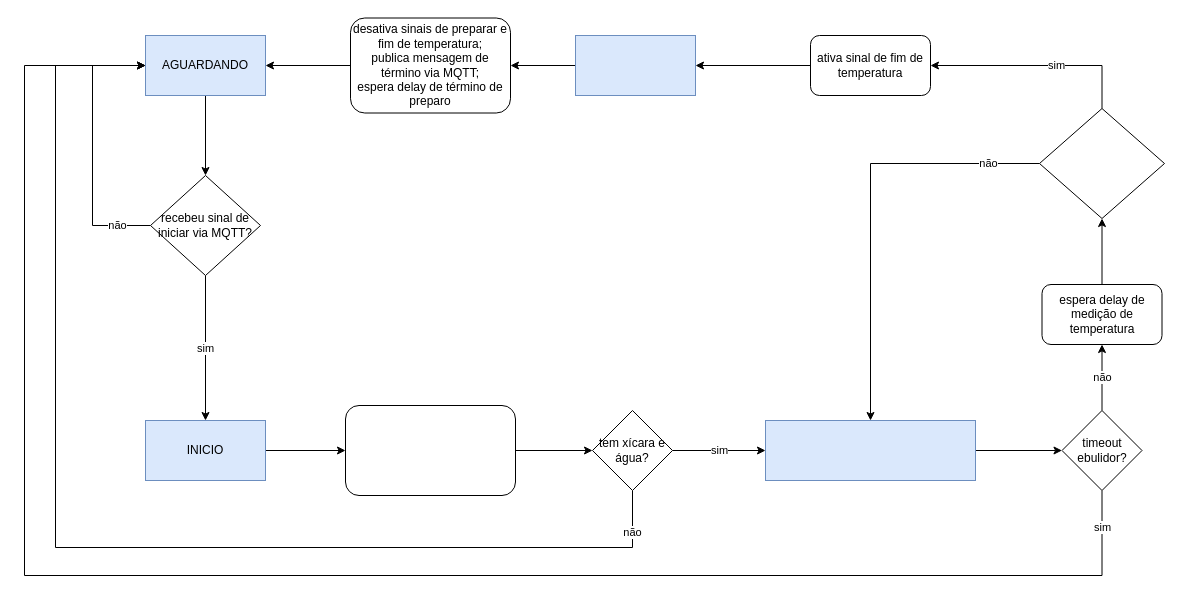
Image size: 1182x601. Some labels were removed from this diagram. Here are the shapes that lost their labels. From the top down, the centre of each, then its label:
the point at 635,65: FINALIZADO
the point at 1101,163: temperatura >= temperatura alvo?
the point at 430,450: ativa sinal de preparar; espera delay de preparo
the point at 870,450: MONITORANDO_TEMPERATURA
